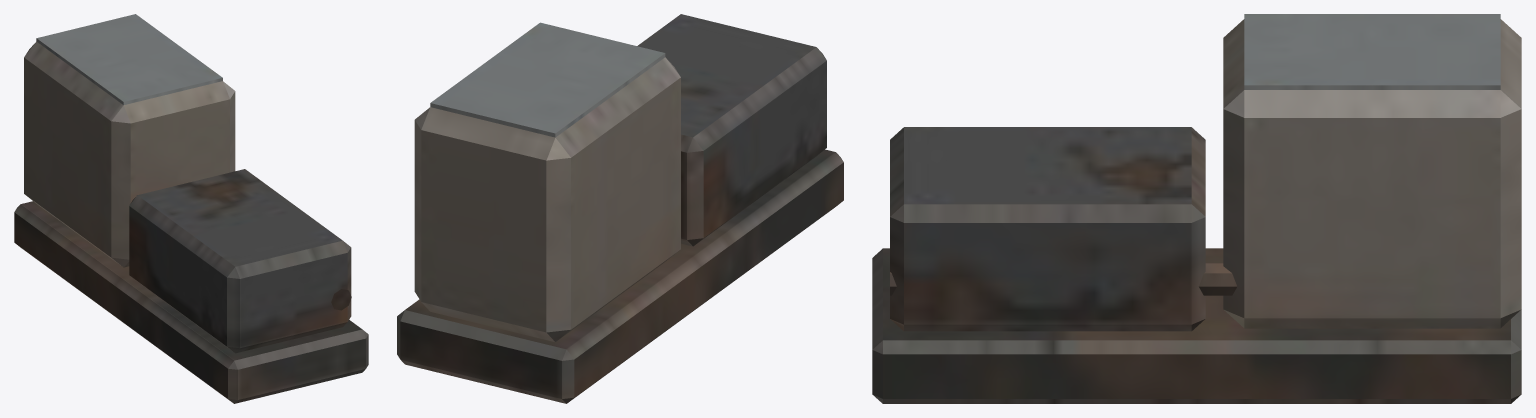
File: cargo-bay-inner-sw.glb
3 views of the same model, side by side, from view 1: azimuth 30°, elevation 25°; view 2: azimuth 150°, elevation 25°; view 3: azimuth 270°, elevation 25° (orthographic). The views are drawn at different scales.
Visible parts, largest first — view 1: body; view 2: body; view 3: body.
Part boxes in pixels (x1,y1,x2,y2): body: [14, 14, 368, 403]; body: [397, 14, 843, 403]; body: [872, 14, 1521, 403].
Bounding box in the file's own units: 0.68 × 0.965 × 1.85.
Materials: 1 (1 with a texture image).
